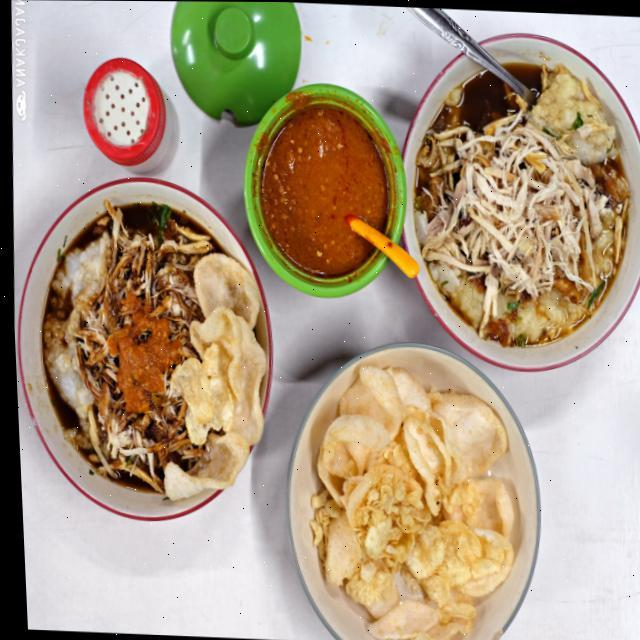bubur ayam: (29, 197, 278, 502), (401, 55, 640, 348)
mangkuk: (8, 170, 282, 525), (387, 21, 640, 377), (274, 335, 552, 640), (235, 78, 414, 302)
sambal: (250, 97, 392, 276)
